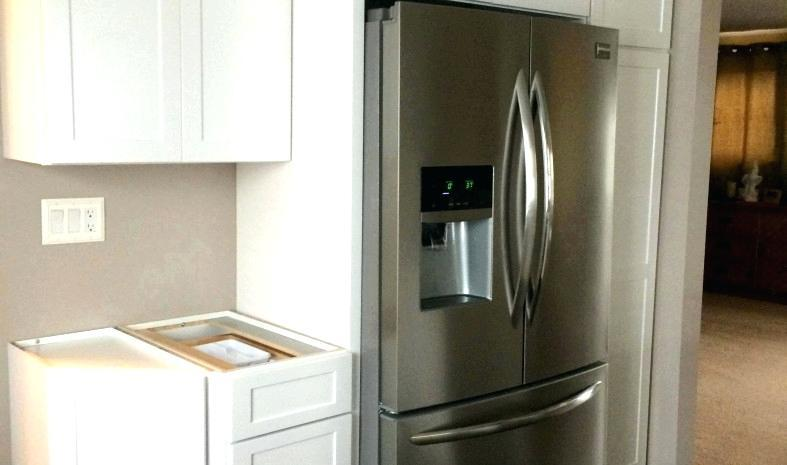cabinet_door: (67, 6, 180, 156), (180, 20, 294, 154), (216, 372, 358, 421), (234, 418, 354, 465)
handle: (504, 83, 542, 308), (533, 82, 569, 315), (423, 403, 596, 444)
